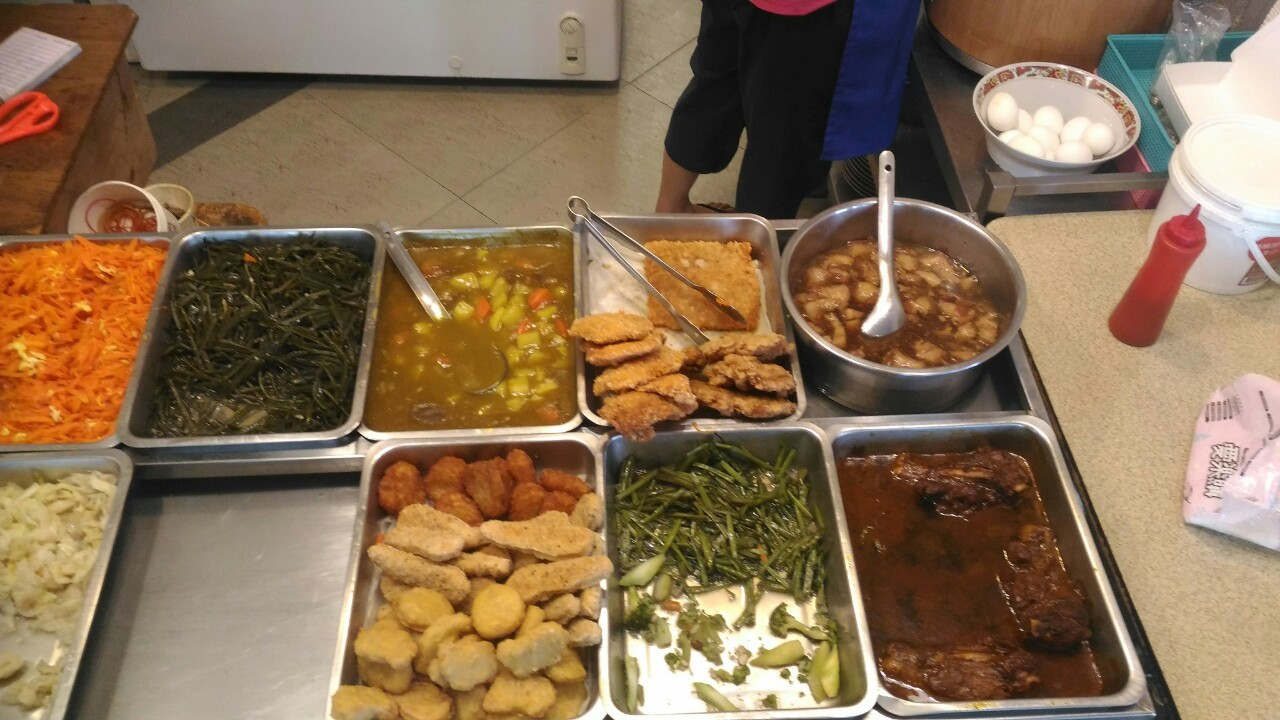carrot_eggs: (1, 243, 156, 444)
chicken_nuggets: (355, 610, 596, 720)
chinese_cabbage: (1, 476, 101, 607)
curry: (378, 225, 578, 432)
water_spinach: (617, 455, 819, 577)
